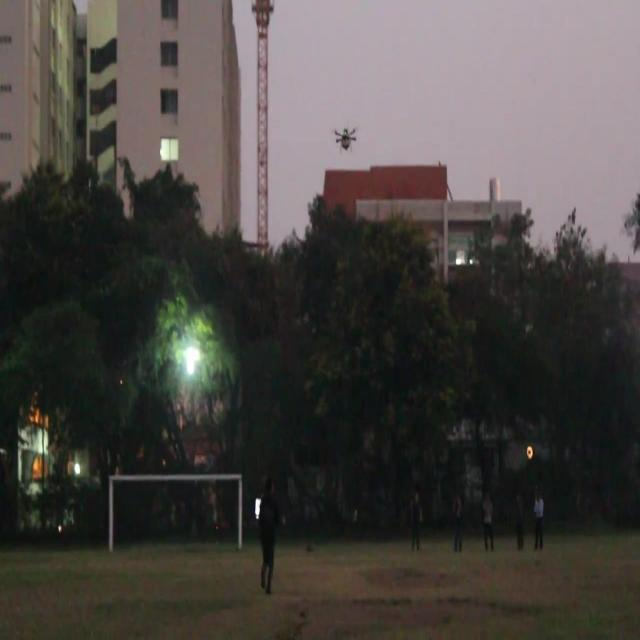UAV: (333, 127, 357, 155)
